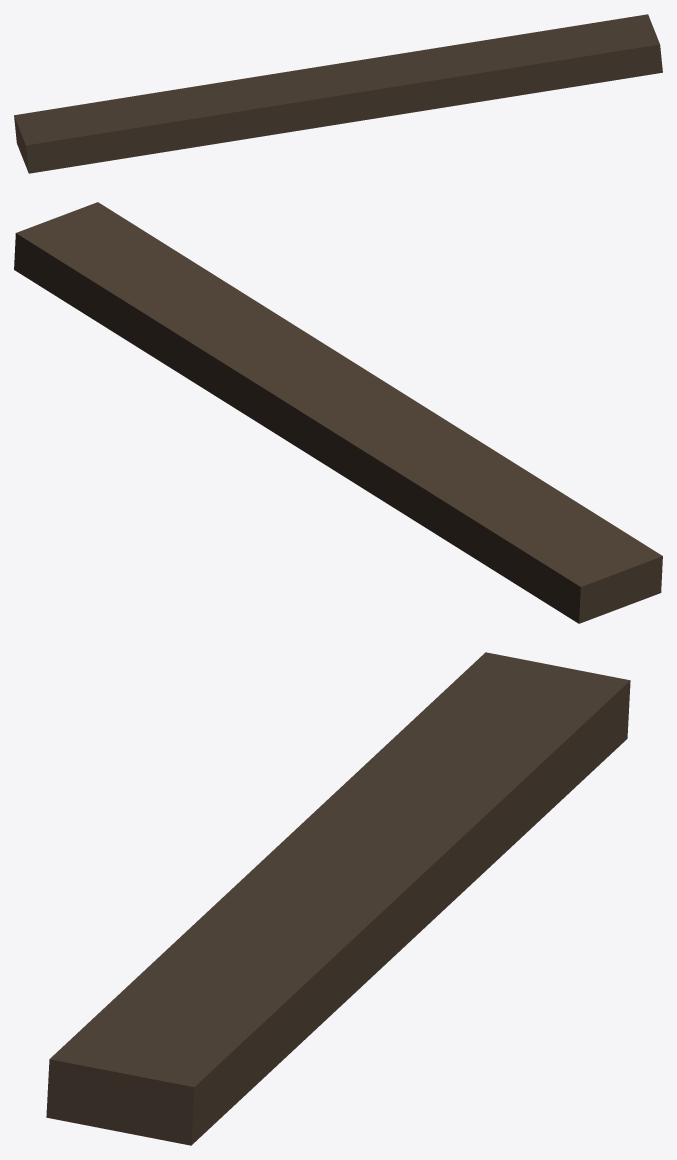
Rendered from Fireplace_modern_Log2.FBX.
The picture shows the model from 3 angles, top to bottom: view 1: azimuth 30°, elevation 25°; view 2: azimuth 150°, elevation 25°; view 3: azimuth 270°, elevation 25°; orthographic projection. The views are drawn at different scales.
Parts seen in each view (by area): view 1: Fireplace_modern_Log2; view 2: Fireplace_modern_Log2; view 3: Fireplace_modern_Log2.
Part boxes in pixels (x1,y1,x2,y2): Fireplace_modern_Log2: (14, 14, 662, 173); Fireplace_modern_Log2: (14, 202, 662, 623); Fireplace_modern_Log2: (46, 652, 630, 1145).
Size of the model in its own units: 37.87 by 5.46 by 17.37.
1 material, 1 textured.
